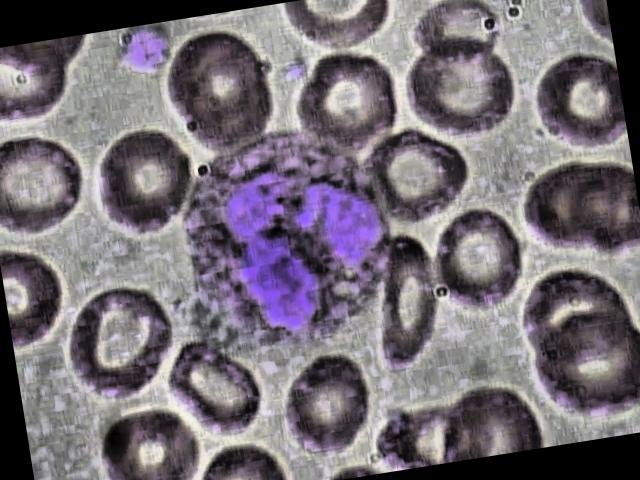Platelets: (112, 22, 176, 83), (274, 56, 312, 84)
RBC: (49, 273, 188, 412), (84, 117, 210, 255), (398, 37, 525, 151), (286, 47, 413, 160), (158, 27, 275, 145), (360, 118, 476, 236), (514, 156, 630, 274), (527, 308, 640, 427), (513, 45, 628, 161), (358, 232, 448, 374), (160, 332, 271, 446), (424, 204, 532, 321), (271, 346, 378, 463), (0, 130, 92, 244), (92, 399, 208, 480), (406, 0, 508, 75), (0, 37, 78, 130)
WBC: (147, 113, 420, 365)
